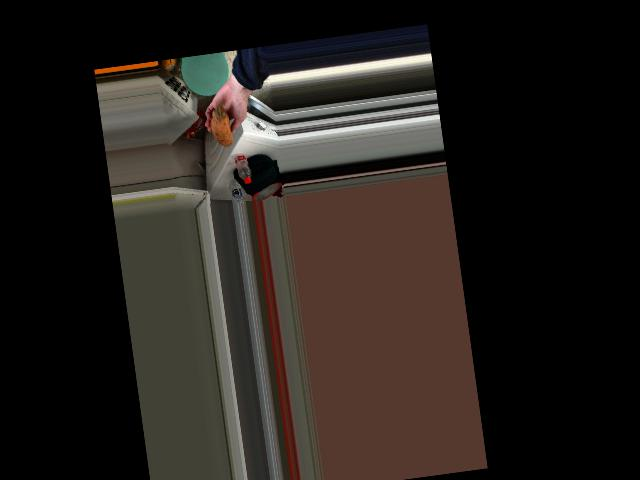sweet_potato: (210, 108, 234, 157)
